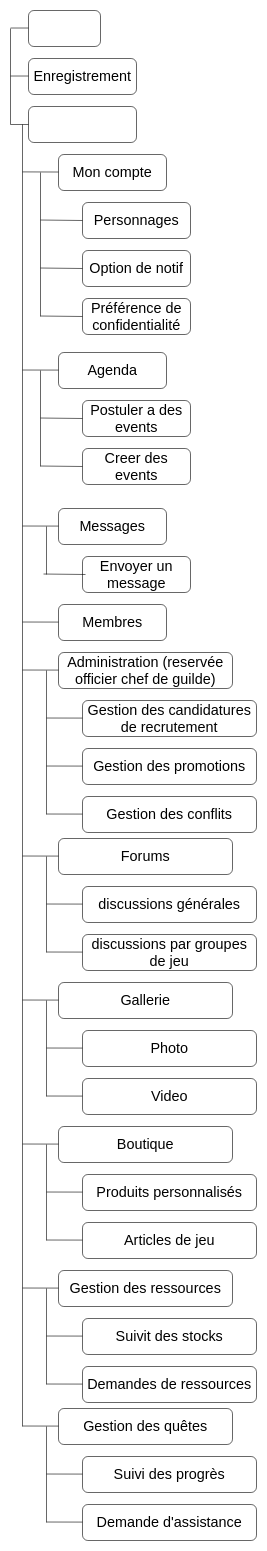
This 267x1551 diagram has some shape labels left out. Each missing label, with the centre of its shape:
"Accueil" goes at (64,28).
"Connection" goes at (82,124).
